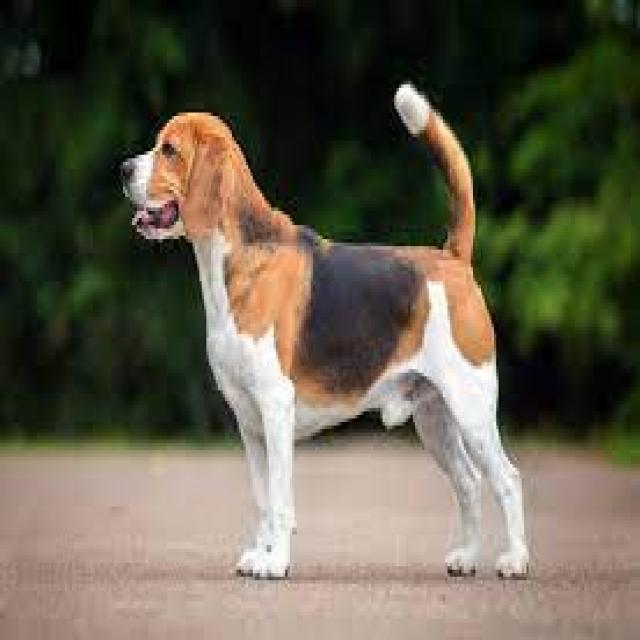dog: (114, 80, 563, 598)
